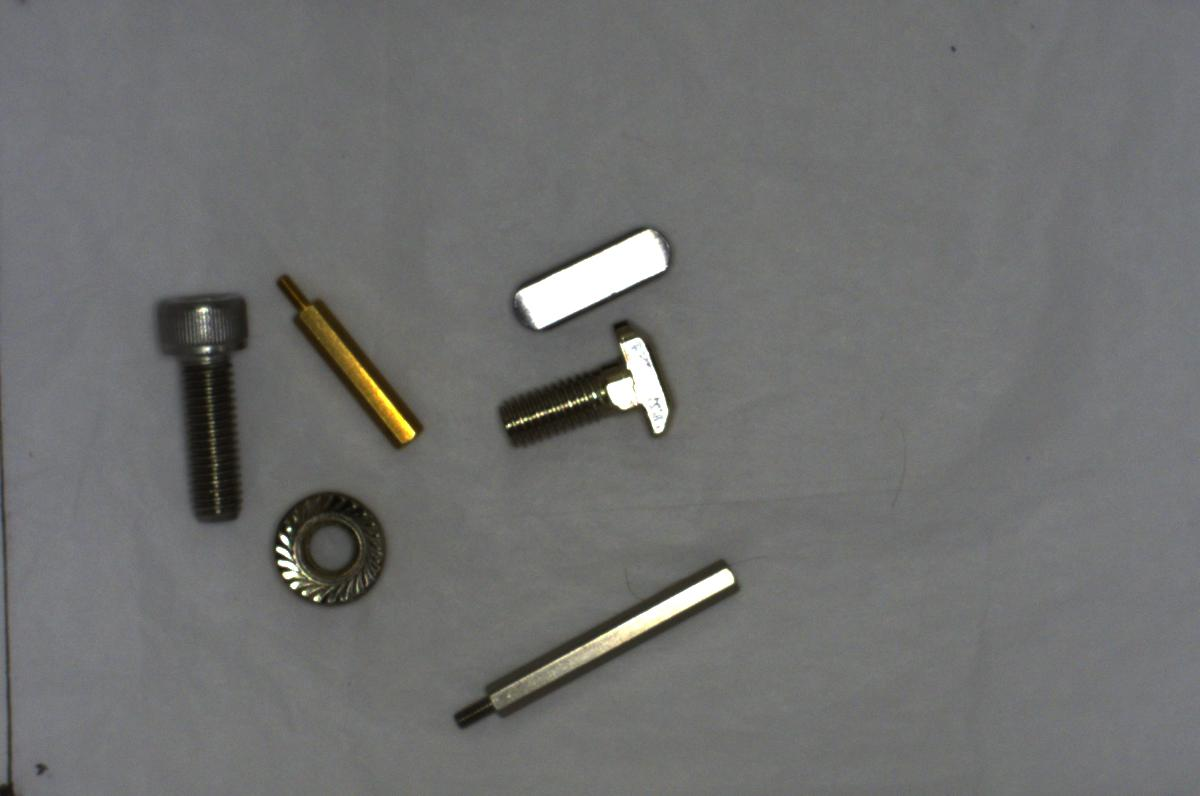Flange nut: (261, 481, 393, 618)
Hexagon pillar: (266, 259, 425, 458)
Hexagon screw: (139, 276, 258, 527)
Hexagonal steel column: (445, 558, 744, 730)
Keybar: (501, 221, 679, 330)
T-shaped screw: (485, 318, 682, 450)
